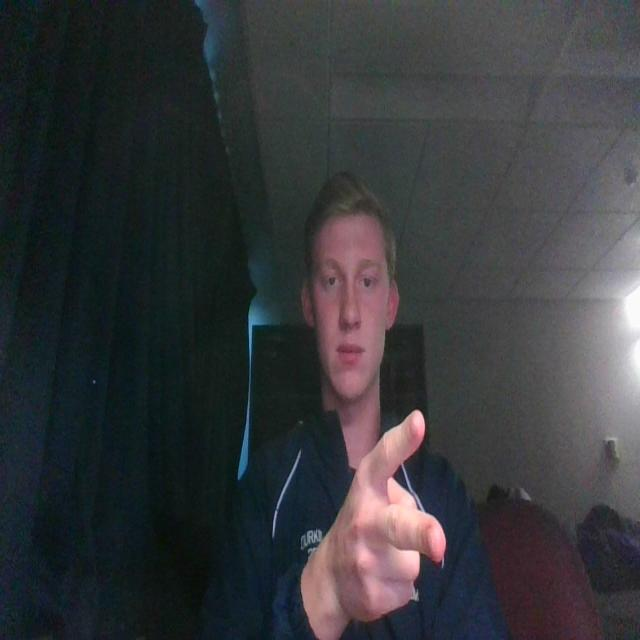scissors: (296, 403, 451, 639)
